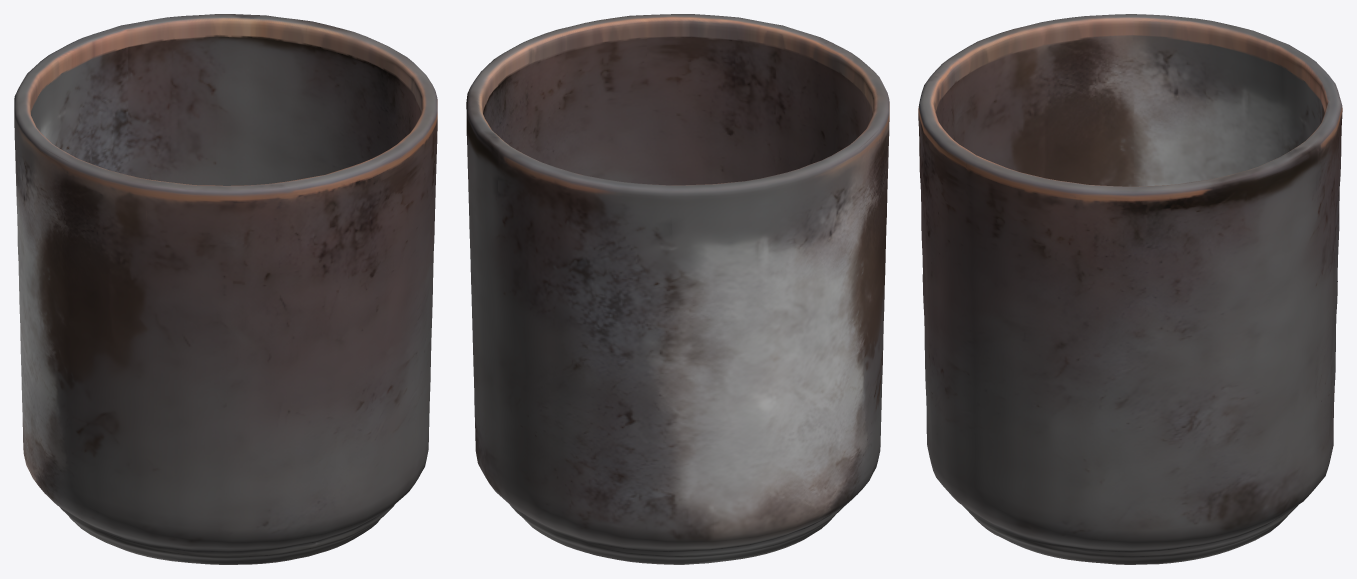
3 views of the same model, side by side, from view 1: azimuth 30°, elevation 25°; view 2: azimuth 150°, elevation 25°; view 3: azimuth 270°, elevation 25° (orthographic).
Visible parts, largest first — view 1: model; view 2: model; view 3: model.
Boxes of the visible parts, x1,y1,x2,y2 form: model: (14,14,437,564); model: (466,14,889,564); model: (918,14,1342,564).
Bounding box in the file's own units: 0.9763 × 1 × 0.9742.
1 material, 1 textured.
